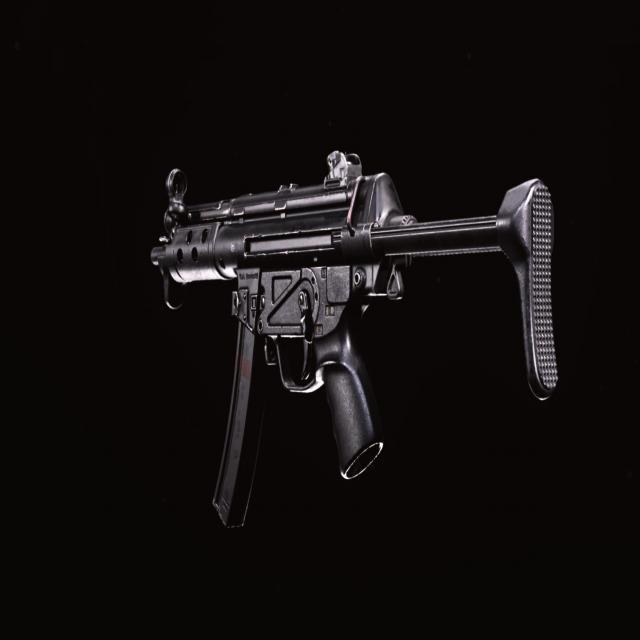smg: (130, 119, 564, 576)
